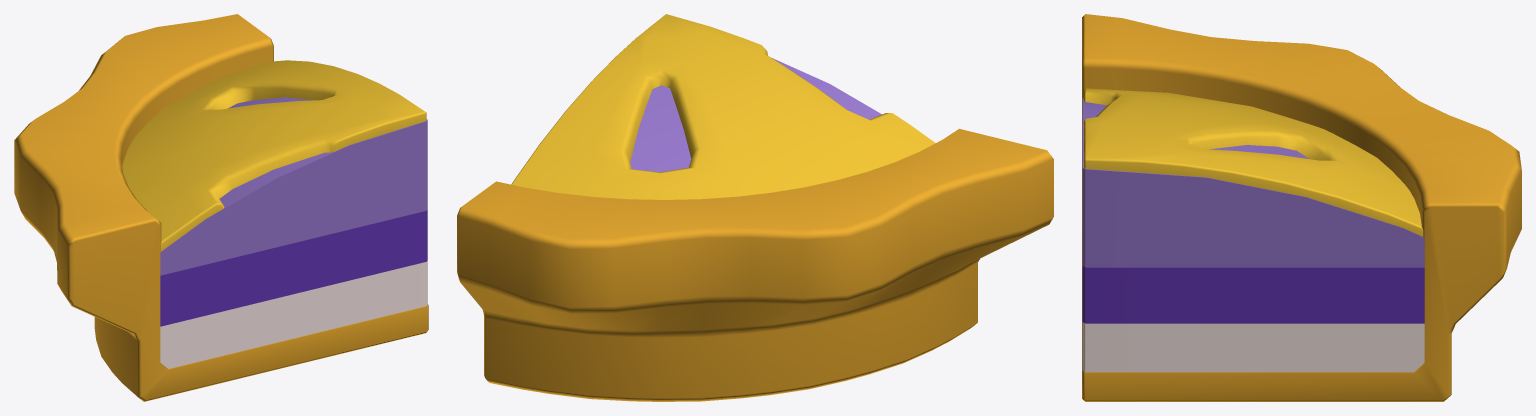
The model's file is Pie_Piece.fbx.
3 renders of one model, left to right at view 1: azimuth 30°, elevation 25°; view 2: azimuth 150°, elevation 25°; view 3: azimuth 270°, elevation 25°, orthographic. The views are drawn at different scales.
Parts seen in each view (by area): view 1: Pie_Piece; view 2: Pie_Piece; view 3: Pie_Piece.
Part boxes in pixels (x1,y1,x2,y2): Pie_Piece: (14,14,428,401); Pie_Piece: (457,14,1053,401); Pie_Piece: (1082,14,1521,401).
Size of the model in its own units: 20.8 by 12.2 by 19.97.
